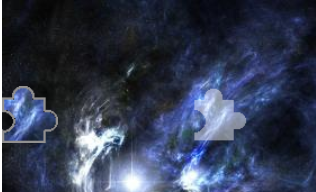target: (188, 85, 254, 141)
